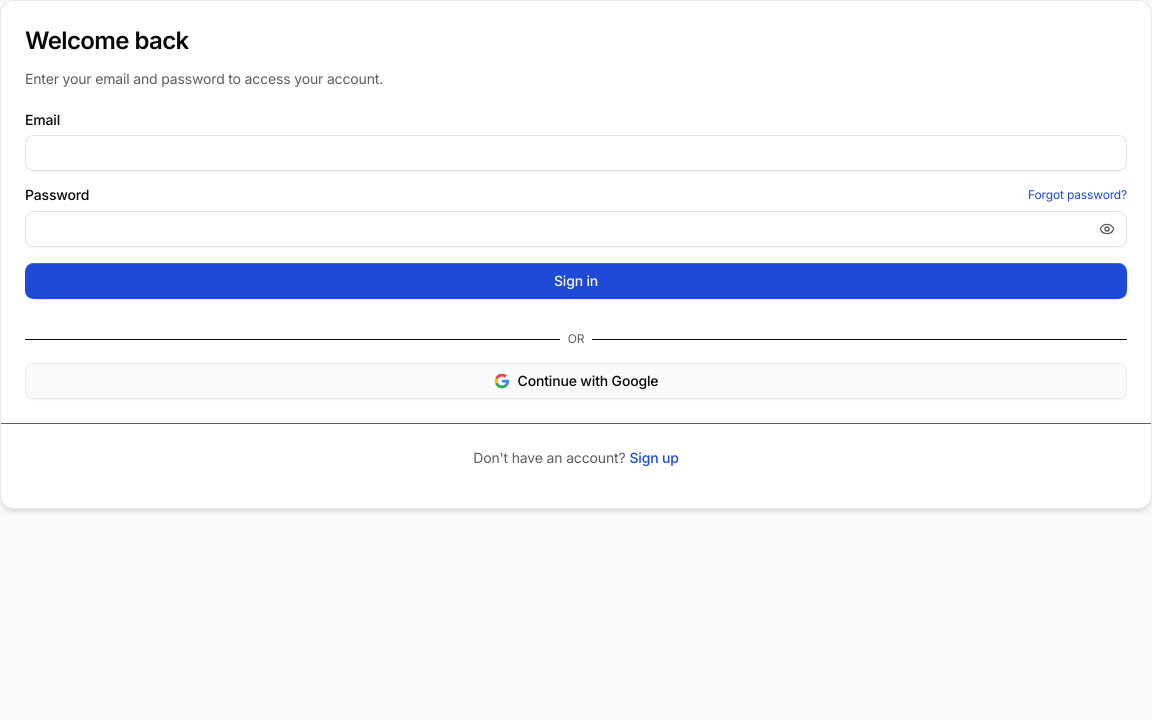
it: Auth Forms › LoginForm › clears password and displays invalid credential error on failure
The width and height of the screenshot is (1152, 720).
Type "user@example.com" into the field labelled "Email" at (576, 153), box x1=25 y1=135 x2=1127 y2=171
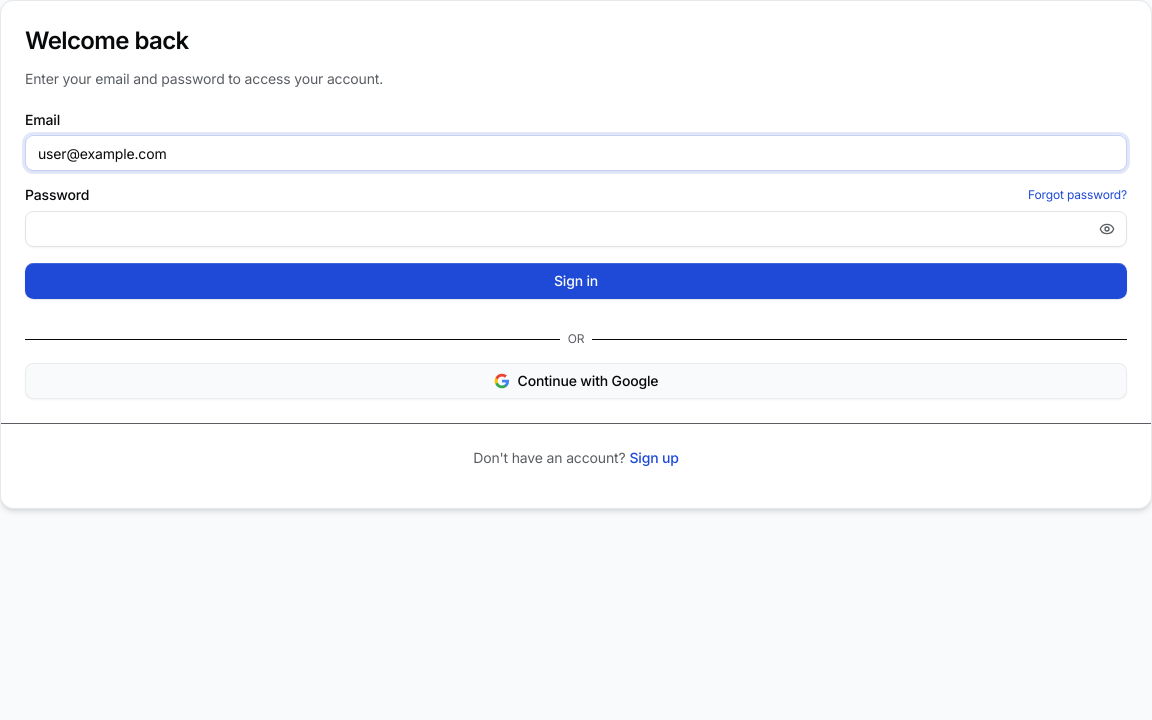
Type "wrong-password" into the password field labelled "Password" at (576, 229), box x1=25 y1=211 x2=1127 y2=247
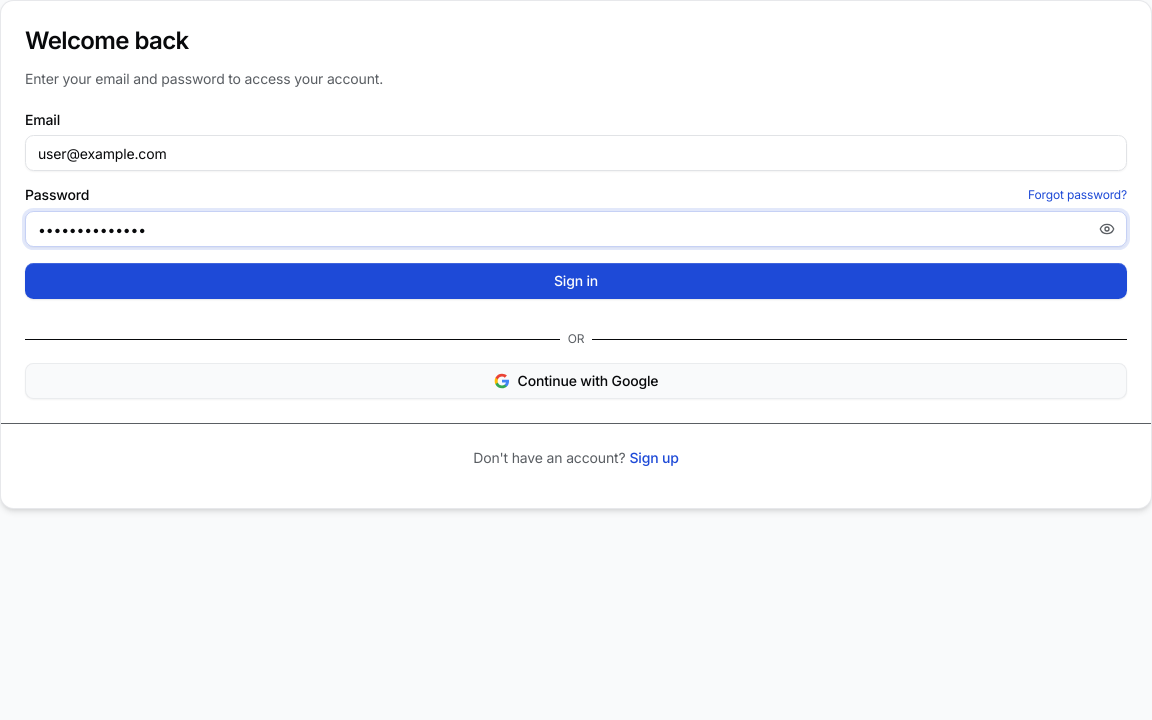
Click the button "Sign in" at (576, 281), box x1=25 y1=263 x2=1127 y2=299
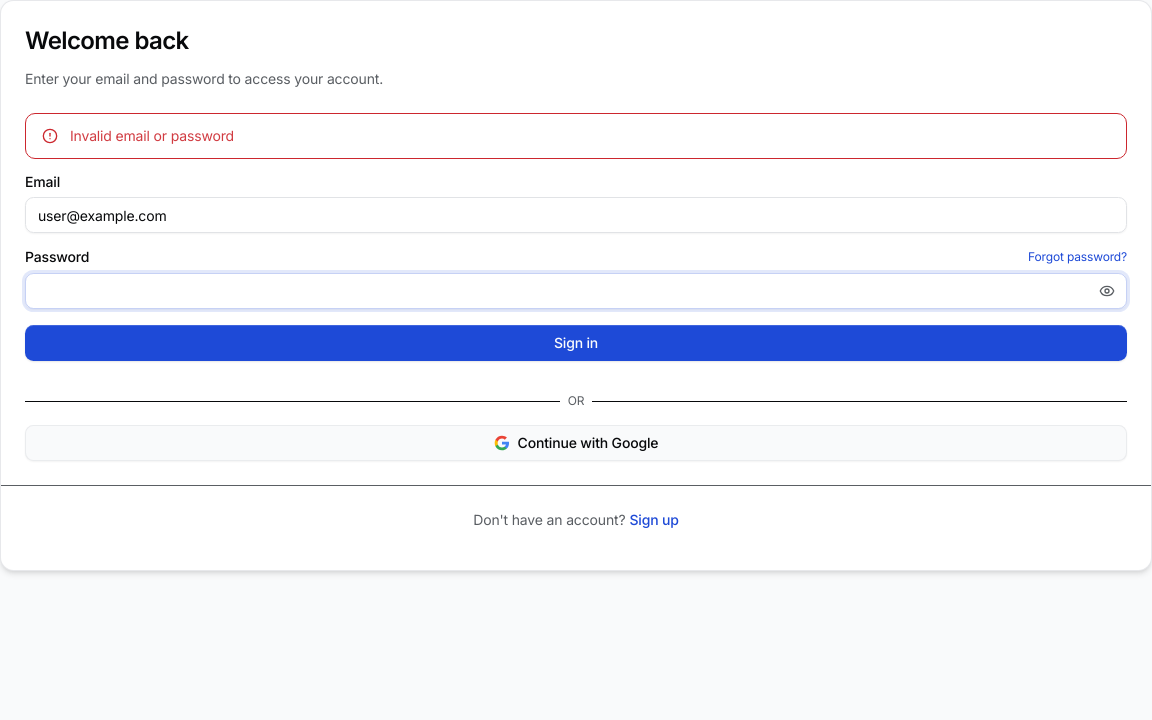
Check: the text "Invalid email or password" is shown, box x1=70 y1=127 x2=234 y2=144
Check: the password field labelled "Password" is empty, box x1=25 y1=273 x2=1127 y2=309
